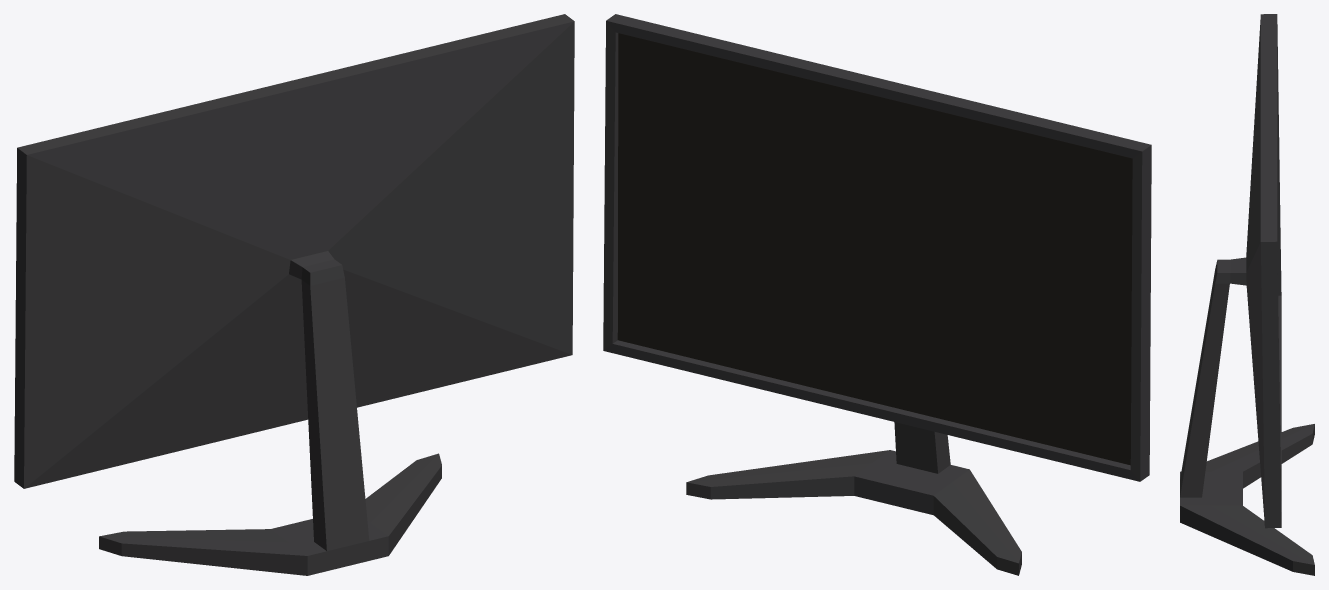
Rendered from Computer Monitor.fbx.
The picture shows the model from 3 angles, left to right: view 1: azimuth 30°, elevation 25°; view 2: azimuth 150°, elevation 25°; view 3: azimuth 270°, elevation 25°; orthographic projection. The views are drawn at different scales.
Parts seen in each view (by area): view 1: Computer Monitor; view 2: Computer Screen, Computer Monitor; view 3: Computer Monitor.
Boxes of the visible parts, x1,y1,x2,y2 form: Computer Monitor: [14, 14, 574, 575]; Computer Screen: [617, 33, 1132, 465]; Computer Monitor: [603, 14, 1151, 575]; Computer Monitor: [1180, 14, 1314, 575].
Size of the model in its own units: 1.22 by 0.9442 by 0.3053.
2 materials, 1 textured.
